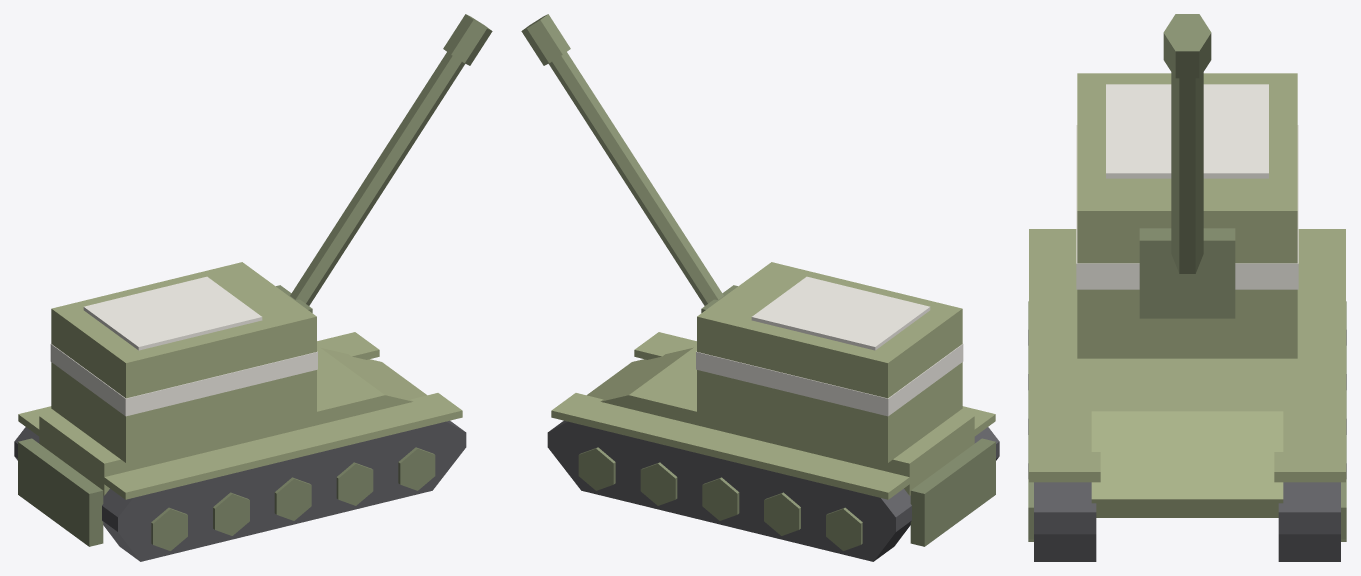
File: formation_back.glb
3 views of the same model, side by side, from view 1: azimuth 30°, elevation 25°; view 2: azimuth 150°, elevation 25°; view 3: azimuth 270°, elevation 25° (orthographic). The views are drawn at different scales.
Parts seen in each view (by area): view 1: modern_formation_back; view 2: modern_formation_back; view 3: modern_formation_back.
Boxes of the visible parts, x1,y1,x2,y2 form: modern_formation_back: (14, 14, 492, 561); modern_formation_back: (521, 14, 999, 561); modern_formation_back: (1028, 14, 1346, 561).
Size of the model in its own units: 0.9995 by 0.9093 by 0.4285.
